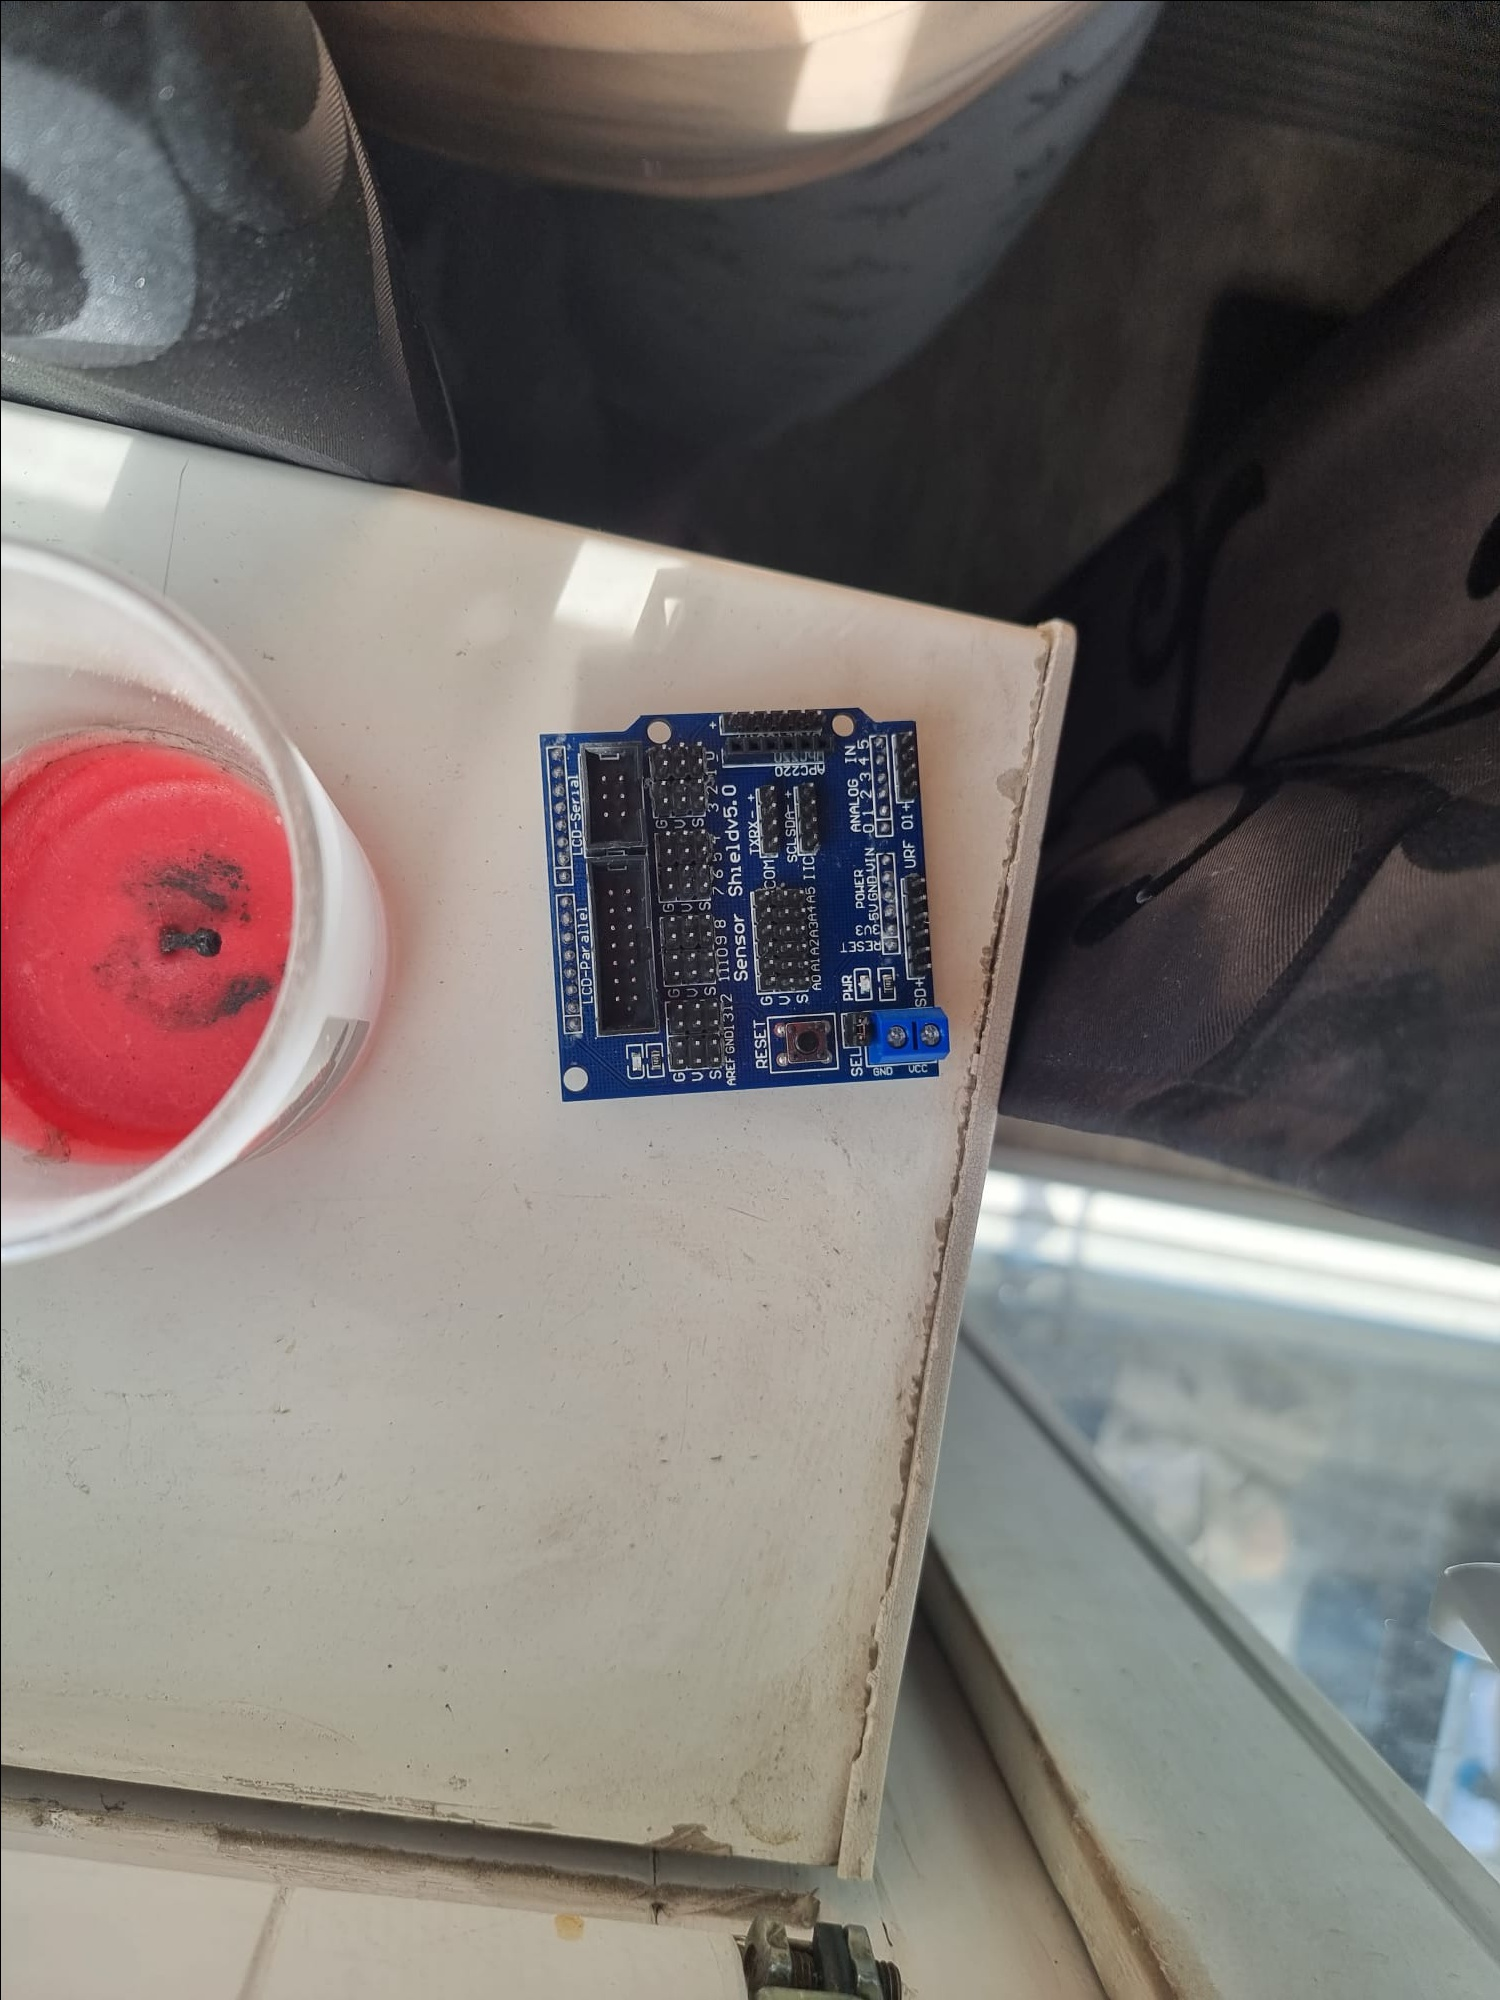5V EXPANSION: (522, 694, 939, 1106)
